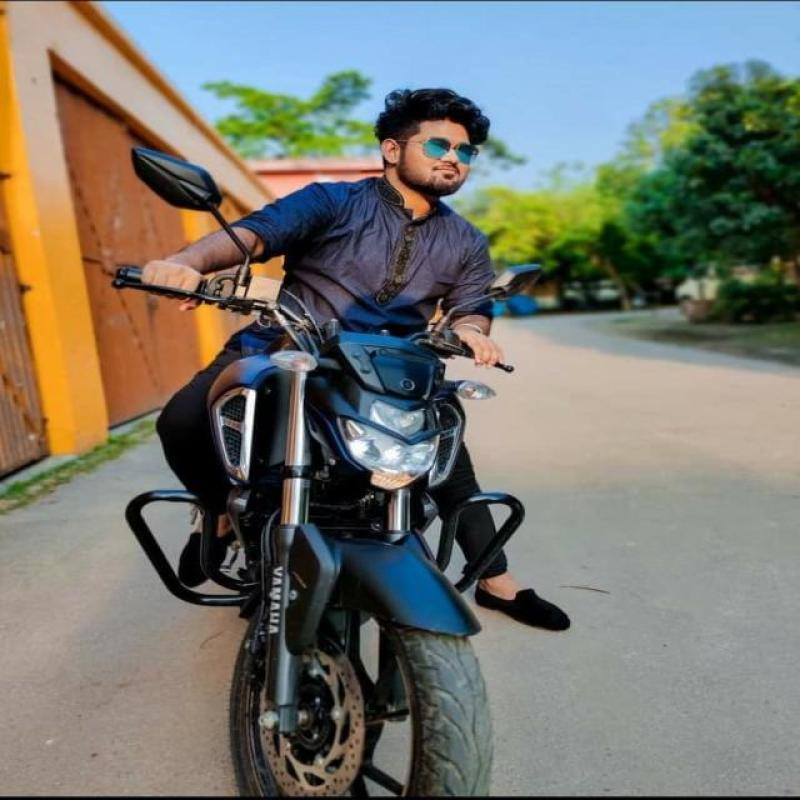nohelmet: (351, 81, 500, 205)
